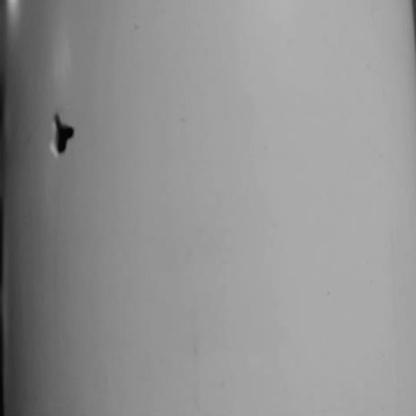kongdong: (47, 108, 79, 158)
